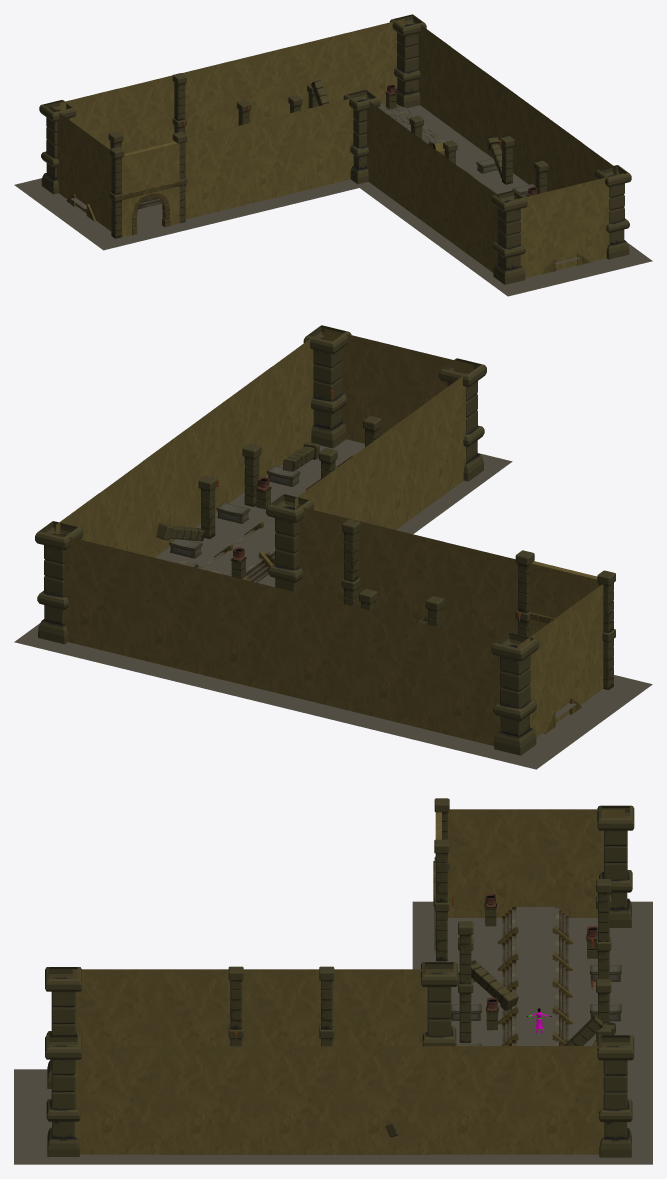
Rendered from Crypt_REF.fbx.
3 renders of one model, top to bottom at view 1: azimuth 30°, elevation 25°; view 2: azimuth 150°, elevation 25°; view 3: azimuth 270°, elevation 25°, orthographic. The views are drawn at different scales.
Visible parts, largest first — view 1: Plane, Wall_Out.007, Wall_Out.008, Wall_Out.006, Wall_Salon_5, Wall_Out.012, Wall_Out.014, Wall_Out.001, Wall_Out, Wall_Out.016, Wall_Out.015, Wall_Out.013 (+23 smaller); view 2: Plane, Wall_Out.013, Wall_Out.012, Wall_Out.015, Wall_Out.014, Wall_Out.010, Wall_Out.016, Wall_Out.008, Wall_Out.007, Wall_Out, Wall_Out.006, Wall_Out.009 (+26 smaller); view 3: Plane, Wall_Out.020, Wall_Out.021, Wall_Out.018, Wall_Out.019, Wall_Out.017, Wall_Out.022, Wall_Out.009, Crypt_Ladder_Floor2, Wall_Out.011, Wall_Out.005, Wall_Out.002 (+14 smaller).
Boxes of the visible parts, x1,y1,x2,y2 form: Plane: (14, 104, 652, 296); Wall_Out.007: (240, 111, 297, 206); Wall_Out.008: (185, 125, 240, 219); Wall_Out.006: (297, 97, 354, 191); Wall_Salon_5: (121, 141, 181, 237); Wall_Out.012: (117, 75, 174, 153); Wall_Out.014: (232, 47, 289, 126); Wall_Out.001: (509, 187, 566, 277); Wall_Out: (566, 173, 623, 267); Wall_Out.016: (347, 19, 404, 104); Wall_Out.015: (290, 33, 347, 110); Wall_Out.013: (182, 61, 232, 137); Plane: (14, 439, 652, 769); Wall_Out.013: (278, 588, 353, 711); Wall_Out.012: (353, 606, 427, 729); Wall_Out.015: (129, 551, 203, 674); Wall_Out.014: (204, 570, 278, 693); Wall_Out.010: (428, 624, 502, 745); Wall_Out.016: (55, 533, 129, 656); Wall_Out.008: (446, 542, 517, 641); Wall_Out.007: (371, 524, 446, 628); Wall_Out: (324, 328, 398, 443); Wall_Out.006: (296, 506, 371, 607); Wall_Out.009: (560, 584, 603, 719); Plane: (14, 901, 652, 1164); Wall_Out.020: (250, 1046, 339, 1154); Wall_Out.021: (161, 1046, 250, 1154); Wall_Out.018: (428, 1046, 516, 1154); Wall_Out.019: (339, 1046, 428, 1154); Wall_Out.017: (517, 1046, 605, 1154); Wall_Out.022: (72, 1046, 161, 1154); Wall_Out.009: (448, 809, 536, 917); Crypt_Ladder_Floor2: (498, 907, 573, 1045); Wall_Out.011: (536, 809, 624, 917); Wall_Out.005: (339, 969, 428, 1046); Wall_Out.002: (72, 969, 161, 1045).
Size of the model in its own units: 4292 by 900 by 4409.
13 materials, 10 textured.
